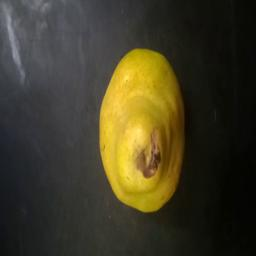Pear Fresh: (89, 38, 189, 223)
